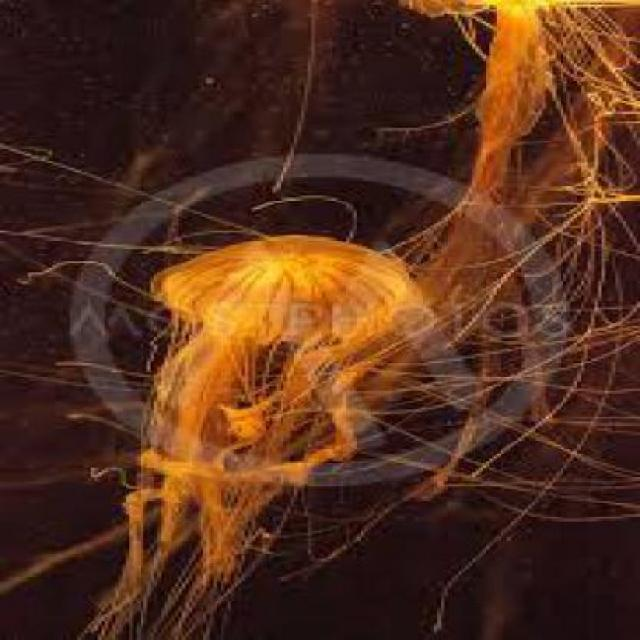Jellyfish: (132, 228, 420, 526)
